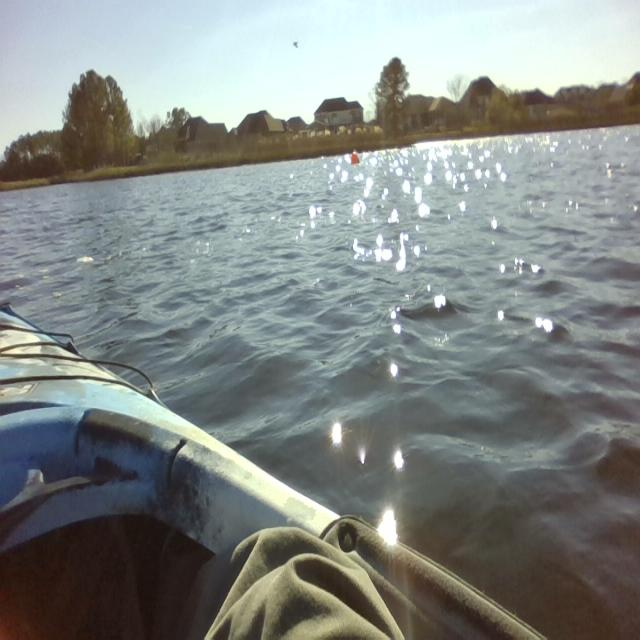Buoy: (347, 145, 365, 170)
